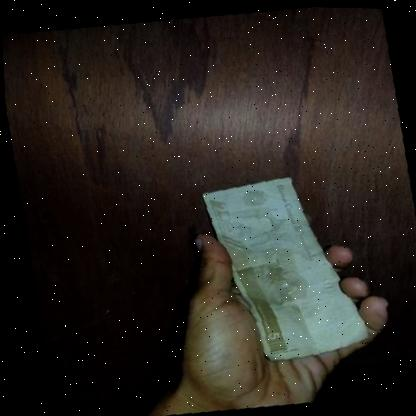five-back-vef: (197, 165, 369, 366)
